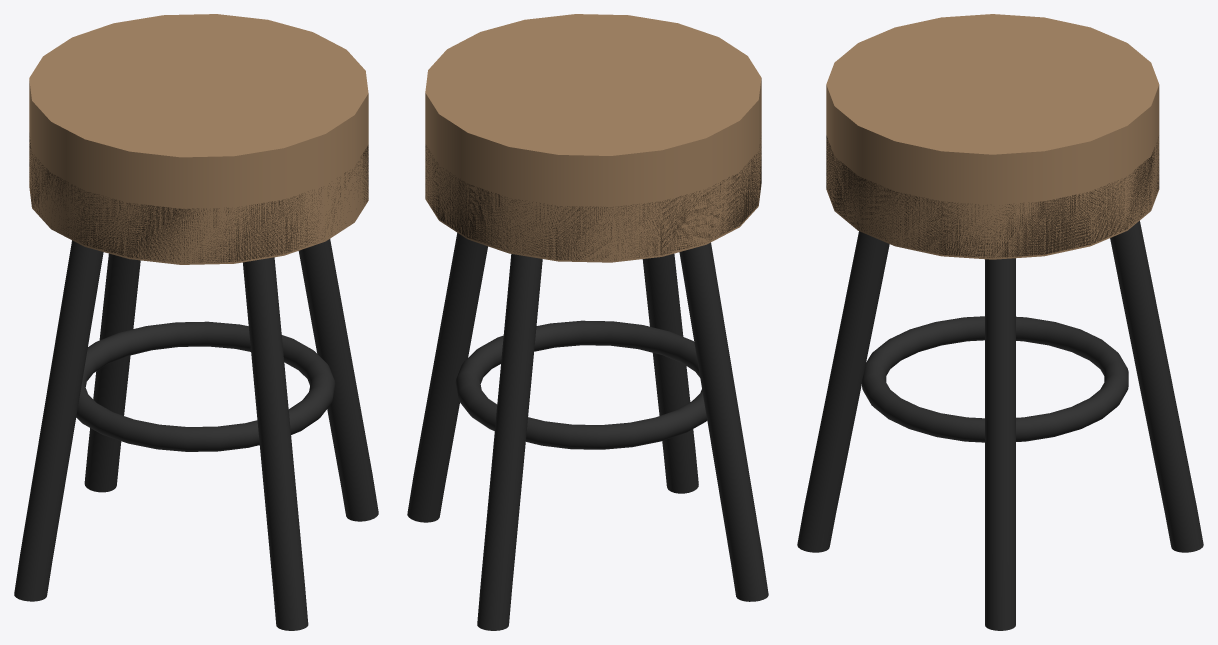
The model's file is Chair.fbx.
The picture shows the model from 3 angles, left to right: view 1: azimuth 30°, elevation 25°; view 2: azimuth 150°, elevation 25°; view 3: azimuth 270°, elevation 25°; orthographic projection. The views are drawn at different scales.
Visible parts, largest first — view 1: pasted__pCylinder1, pCylinder15, pasted__pCylinder2; view 2: pasted__pCylinder1, pCylinder15, pasted__pCylinder2; view 3: pasted__pCylinder1, pCylinder15, pasted__pCylinder2.
Boxes of the visible parts, x1,y1,x2,y2 form: pasted__pCylinder1: (29,14,368,264); pCylinder15: (14,239,378,630); pasted__pCylinder2: (29,133,368,262); pasted__pCylinder1: (425,14,761,262); pCylinder15: (407,233,768,630); pasted__pCylinder2: (425,144,761,260); pasted__pCylinder1: (826,14,1159,259); pCylinder15: (797,221,1203,630); pasted__pCylinder2: (826,135,1159,257).
Size of the model in its own units: 2.44 by 3.06 by 2.44.
